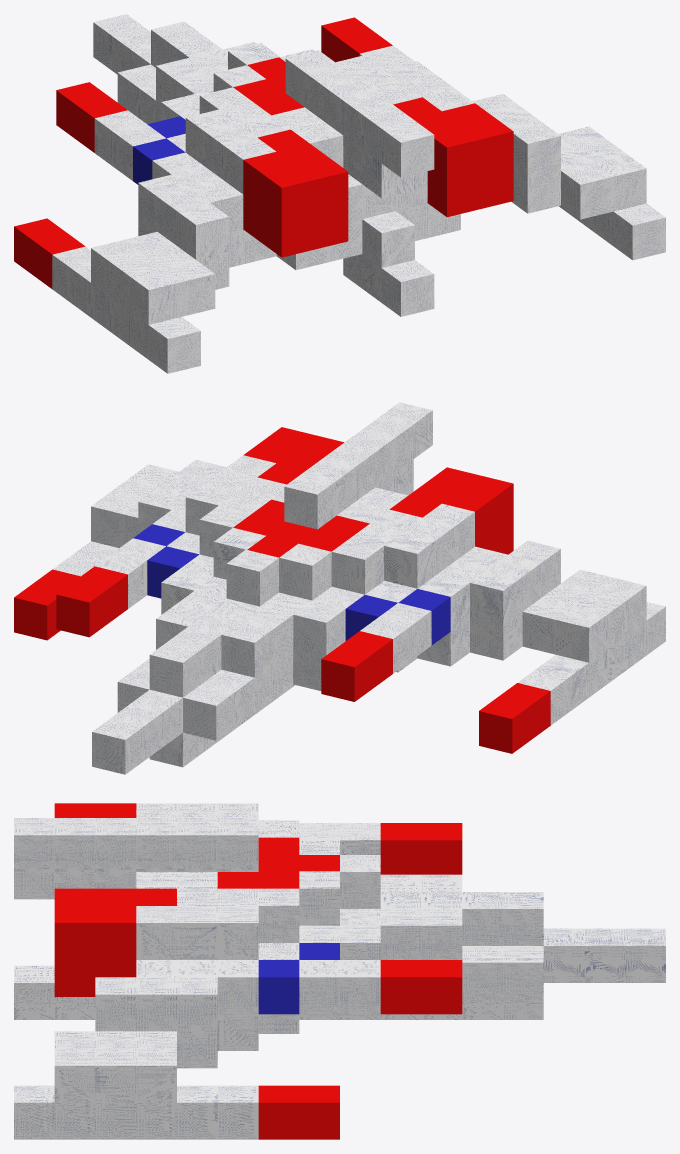
Rendered from ship.obj.
3 renders of one model, top to bottom at view 1: azimuth 30°, elevation 25°; view 2: azimuth 150°, elevation 25°; view 3: azimuth 270°, elevation 25°, orthographic. The views are drawn at different scales.
Parts seen in each view (by area): view 1: object 12, SketchUp.002_ID31, SketchUp.004_ID49, SketchUp.008_ID81, SketchUp.006_ID65, SketchUp.009_ID89, SketchUp.010_ID97, SketchUp.001_ID21, SketchUp.007_ID73; view 2: object 12, SketchUp.002_ID31, SketchUp.010_ID97, SketchUp.008_ID81, SketchUp.009_ID89, SketchUp.001_ID21, SketchUp.004_ID49, SketchUp.011_ID105, SketchUp.006_ID65, SketchUp.007_ID73, SketchUp.005_ID57, SketchUp.003_ID39; view 3: object 12, SketchUp.004_ID49, SketchUp.010_ID97, SketchUp.011_ID105, SketchUp.008_ID81, SketchUp.001_ID21, SketchUp.003_ID39, SketchUp.006_ID65, SketchUp.002_ID31, SketchUp.005_ID57.
Boxes of the visible parts, x1=… form: object 12: x1=52, y1=14, x2=665, y2=373; SketchUp.002_ID31: x1=243, y1=129, x2=348, y2=257; SketchUp.004_ID49: x1=393, y1=97, x2=513, y2=217; SketchUp.008_ID81: x1=56, y1=82, x2=127, y2=152; SketchUp.006_ID65: x1=94, y1=110, x2=165, y2=180; SketchUp.009_ID89: x1=14, y1=218, x2=85, y2=288; SketchUp.010_ID97: x1=321, y1=17, x2=392, y2=62; SketchUp.001_ID21: x1=233, y1=57, x2=304, y2=115; SketchUp.007_ID73: x1=133, y1=116, x2=185, y2=184; object 12: x1=52, y1=402, x2=665, y2=774; SketchUp.002_ID31: x1=389, y1=467, x2=513, y2=554; SketchUp.010_ID97: x1=56, y1=566, x2=127, y2=637; SketchUp.008_ID81: x1=321, y1=631, x2=392, y2=701; SketchUp.009_ID89: x1=479, y1=683, x2=550, y2=753; SketchUp.001_ID21: x1=233, y1=499, x2=369, y2=557; SketchUp.004_ID49: x1=243, y1=427, x2=344, y2=484; SketchUp.011_ID105: x1=14, y1=569, x2=80, y2=640; SketchUp.006_ID65: x1=360, y1=603, x2=431, y2=673; SketchUp.007_ID73: x1=345, y1=589, x2=450, y2=645; SketchUp.005_ID57: x1=147, y1=546, x2=199, y2=598; SketchUp.003_ID39: x1=133, y1=524, x2=185, y2=546; object 12: x1=14, y1=803, x2=665, y2=1139; SketchUp.004_ID49: x1=54, y1=888, x2=176, y2=996; SketchUp.010_ID97: x1=380, y1=960, x2=462, y2=1014; SketchUp.011_ID105: x1=258, y1=1085, x2=339, y2=1139; SketchUp.008_ID81: x1=380, y1=823, x2=462, y2=874; SketchUp.001_ID21: x1=217, y1=837, x2=339, y2=888; SketchUp.003_ID39: x1=258, y1=960, x2=299, y2=1014; SketchUp.006_ID65: x1=299, y1=823, x2=380, y2=854; SketchUp.002_ID31: x1=54, y1=803, x2=136, y2=817; SketchUp.005_ID57: x1=299, y1=943, x2=339, y2=959.
Bounding box in the file's own units: 3.08 × 1.03 × 3.3.
